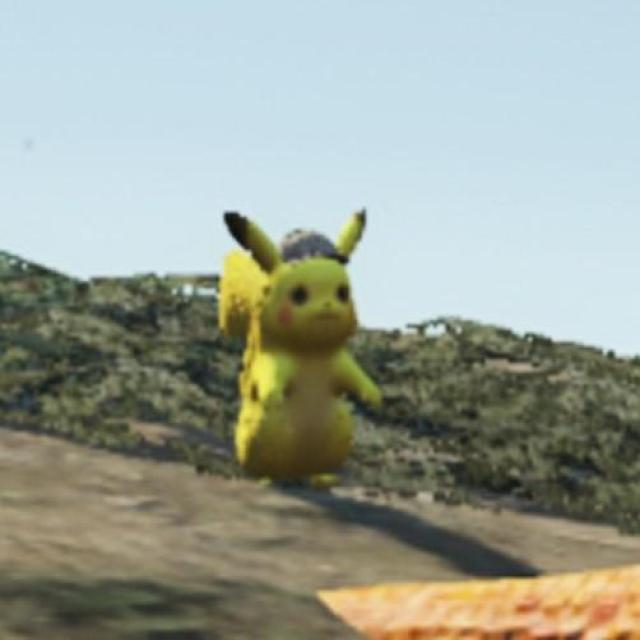pikachu: (221, 206, 388, 487)
